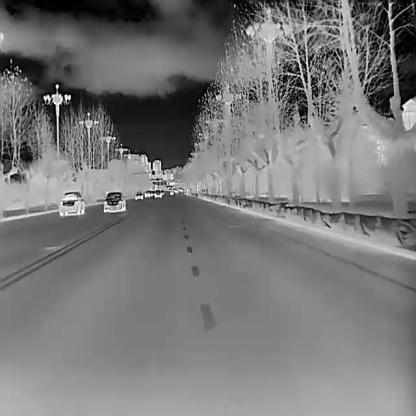car: (59, 191, 84, 215), (103, 191, 126, 212), (135, 191, 143, 200), (154, 190, 161, 198), (169, 189, 175, 195), (145, 190, 150, 197), (150, 190, 154, 196), (162, 190, 164, 195)
